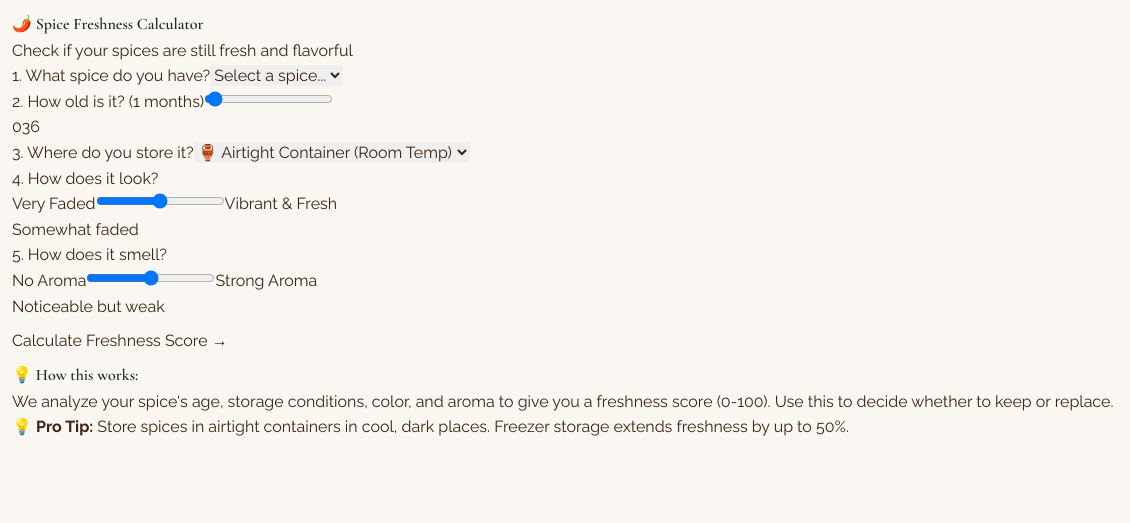
Test: SpiceFreshnessCalculator Logic › calculates low score for old spice with bad storage
Select "Cumin" in the dropdown labelled "1. What spice do you have?": (277, 76) [210,65,343,86]
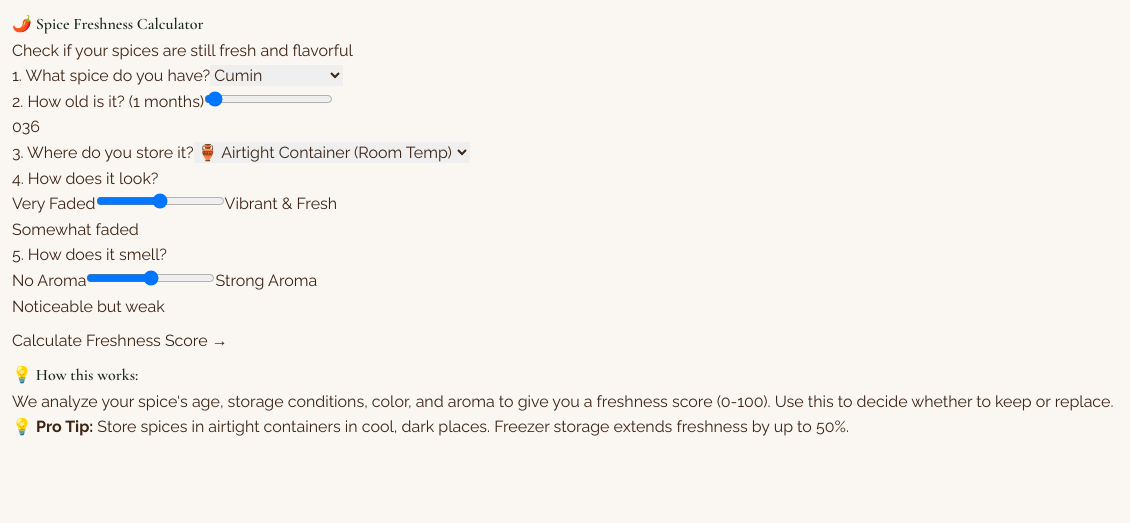
Set the slider labelled "2. How old is it? (1 months)" to "30": (306, 99) [204,91,333,107]
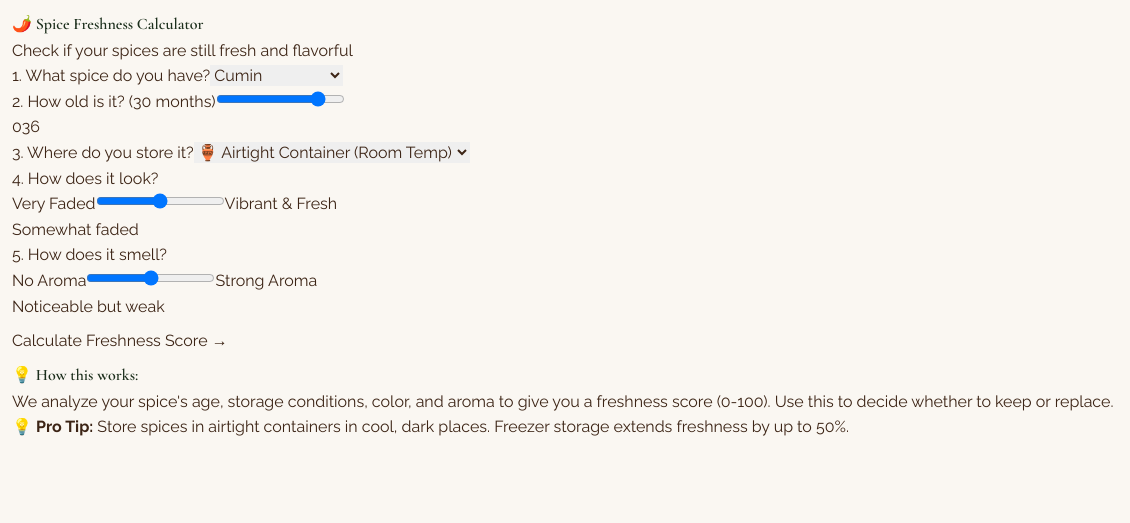
Set the slider labelled "4. How does it look?" to "1": (104, 201) [96,193,224,209]
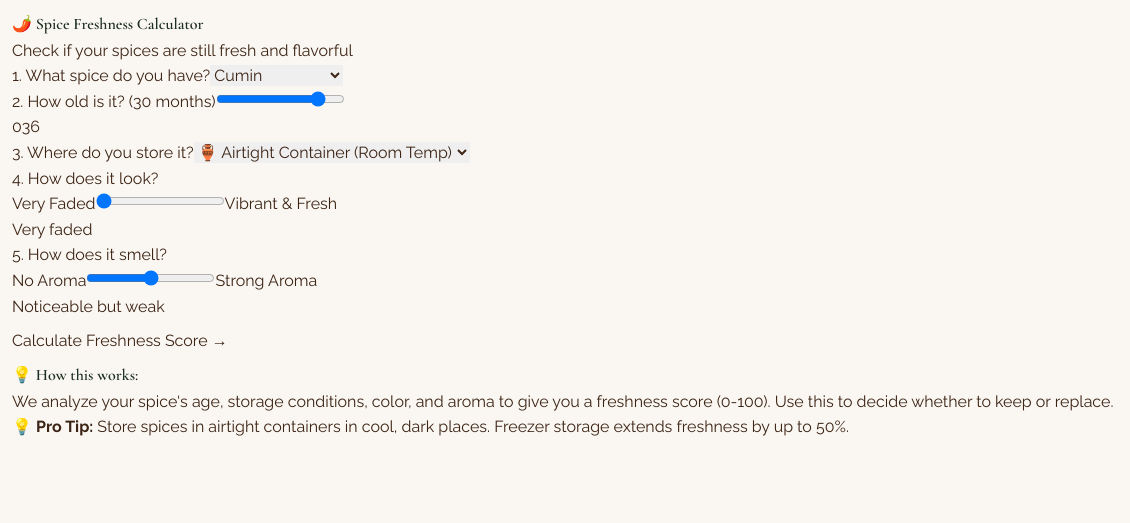
Set the slider labelled "5. How does it smell?" to "1": (94, 278) [86,270,216,286]
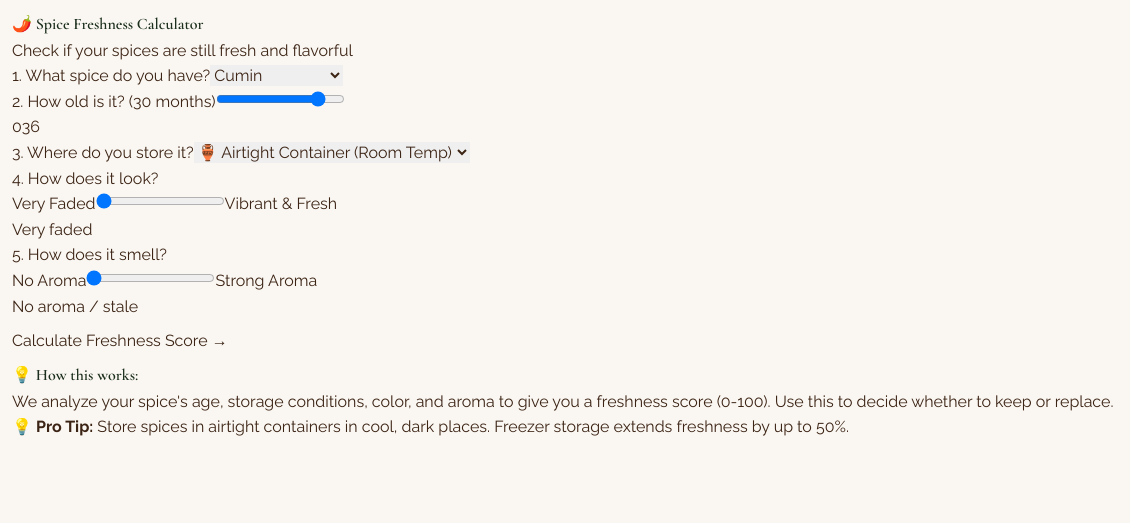
// Select open container storage
Select "🪣 Open Container" in the dropdown labelled "3. Where do you store it?": (332, 152) [194,142,470,163]
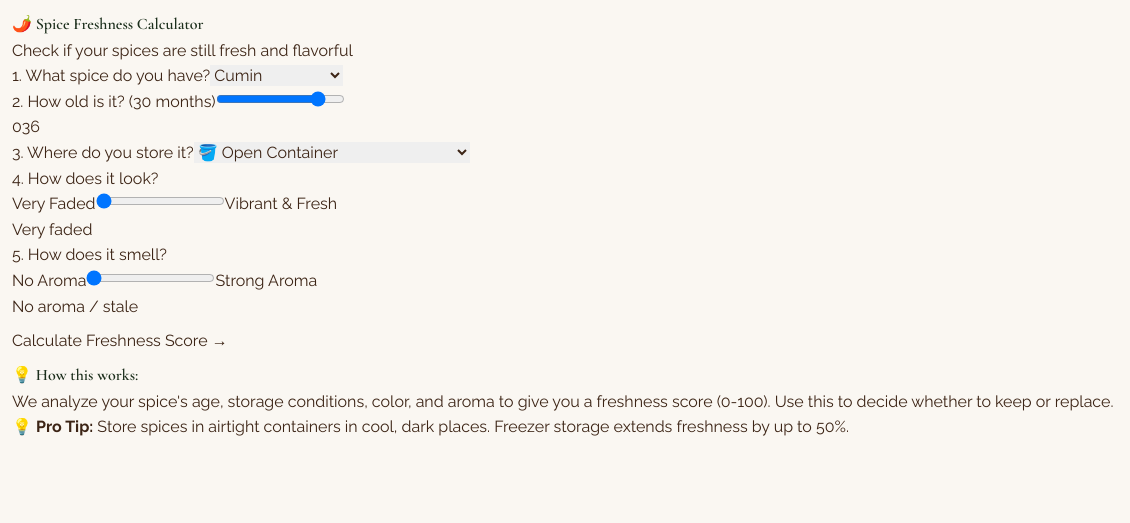
Click the button "Calculate Freshness Score →": (120, 341) [12,319,228,363]
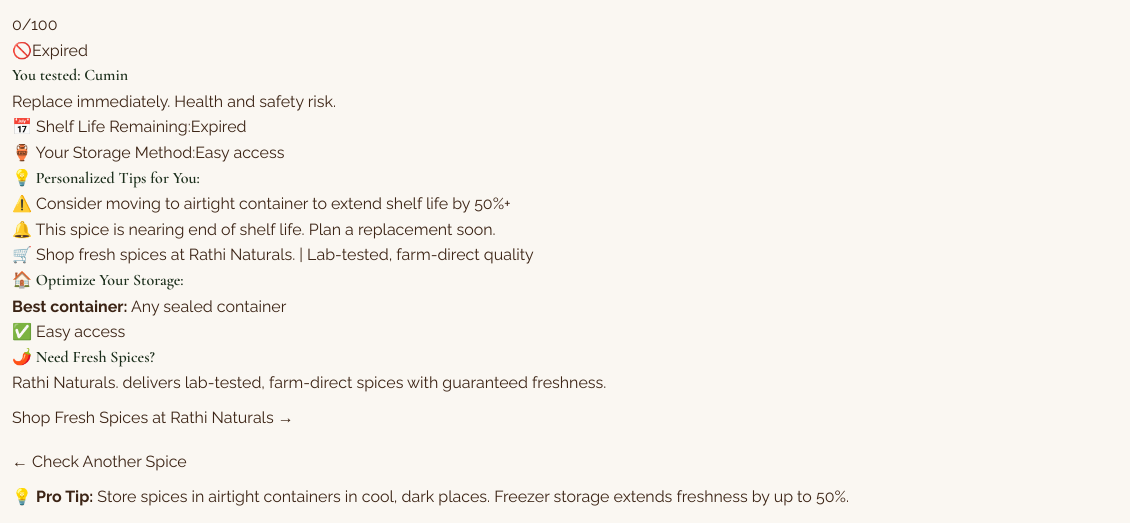
Expected: the text "Expired" below "/100" is shown, [32,41,88,60]
